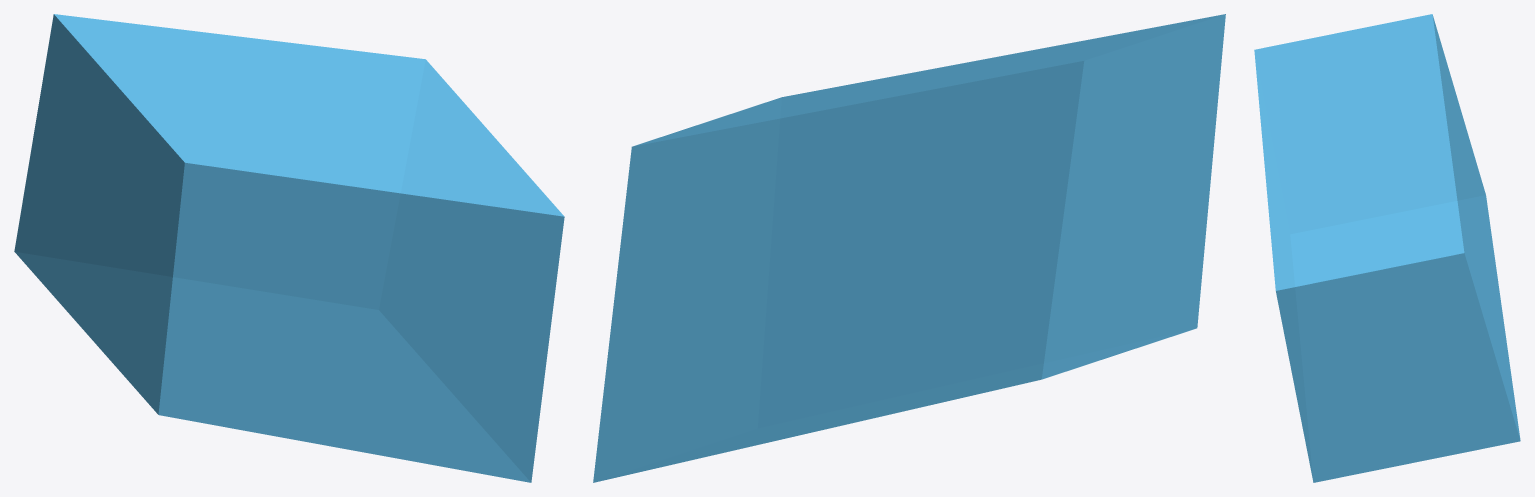
The model's file is Event_421278790_HErechit_10.fbx.
3 views of the same model, side by side, from view 1: azimuth 30°, elevation 25°; view 2: azimuth 150°, elevation 25°; view 3: azimuth 270°, elevation 25° (orthographic). The views are drawn at different scales.
Visible parts, largest first — view 1: Model; view 2: Model; view 3: Model.
Part boxes in pixels (x1,y1,x2,y2): Model: (14,14,564,482); Model: (593,14,1225,482); Model: (1254,14,1520,482).
Size of the model in its own units: 0.5996 by 0.7243 by 0.5147.
